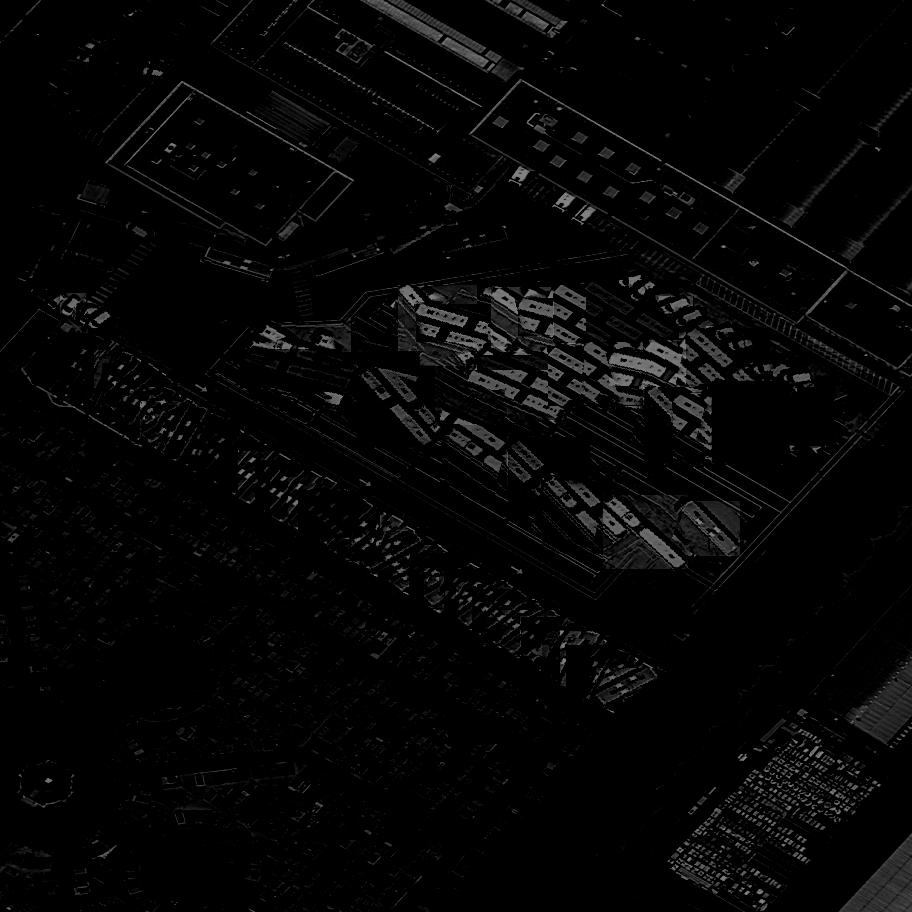large-vehicle: (644, 384, 727, 472), (508, 436, 591, 518), (398, 284, 477, 369), (603, 494, 688, 573), (686, 328, 771, 407), (357, 366, 435, 452), (712, 380, 790, 465), (445, 426, 535, 498), (543, 474, 622, 556), (673, 392, 768, 460), (491, 286, 584, 354), (584, 341, 677, 408), (260, 323, 352, 390), (587, 279, 680, 343), (554, 284, 651, 345), (548, 345, 643, 407), (645, 339, 743, 397), (733, 394, 834, 448), (410, 397, 509, 452), (476, 355, 577, 406), (469, 369, 568, 421), (510, 355, 612, 399), (315, 352, 420, 393), (416, 304, 520, 344), (240, 349, 343, 389), (520, 298, 624, 337), (611, 352, 714, 388), (682, 497, 740, 558), (378, 532, 438, 589), (238, 449, 295, 509), (567, 643, 629, 698), (387, 210, 456, 258), (206, 433, 263, 490), (350, 514, 406, 572), (473, 588, 532, 643), (317, 498, 377, 552), (177, 412, 229, 474), (444, 567, 496, 629), (456, 580, 519, 631), (103, 362, 161, 417), (270, 468, 325, 526), (521, 615, 580, 669), (255, 458, 308, 518), (130, 385, 181, 447), (220, 443, 282, 494), (59, 331, 109, 394), (486, 598, 549, 648), (288, 476, 340, 536), (299, 490, 360, 541), (116, 372, 178, 422), (503, 609, 565, 659), (394, 545, 453, 597), (411, 552, 468, 605), (338, 501, 383, 567), (543, 621, 590, 683), (142, 401, 205, 447), (560, 628, 603, 695), (361, 530, 425, 575), (166, 401, 211, 465), (424, 567, 488, 611), (597, 667, 661, 711), (591, 648, 634, 712), (95, 348, 137, 413), (198, 419, 239, 485), (204, 247, 276, 283), (440, 228, 511, 258)
small-vehicle: (762, 357, 795, 386), (660, 296, 695, 320), (85, 308, 116, 335), (630, 277, 661, 304), (797, 376, 836, 397), (162, 41, 191, 69), (151, 49, 178, 78), (122, 219, 151, 246), (158, 231, 190, 255), (61, 291, 87, 320), (676, 307, 707, 330), (46, 289, 73, 315), (616, 270, 649, 291), (62, 45, 96, 65), (185, 13, 211, 39), (706, 325, 738, 346), (93, 18, 123, 40), (750, 351, 781, 372), (689, 318, 718, 340), (87, 24, 111, 50), (76, 302, 99, 329), (141, 64, 171, 83), (74, 35, 101, 55), (783, 373, 815, 388), (170, 36, 198, 53), (647, 293, 676, 306), (722, 338, 750, 349)
